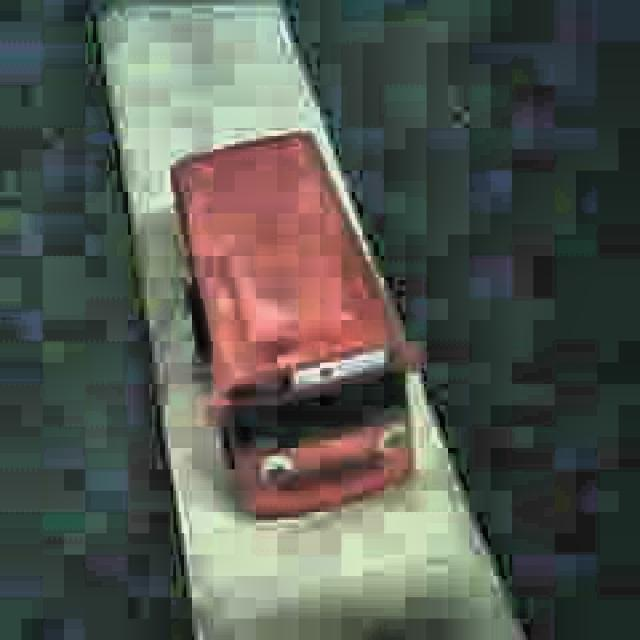bus: (168, 129, 424, 526)
